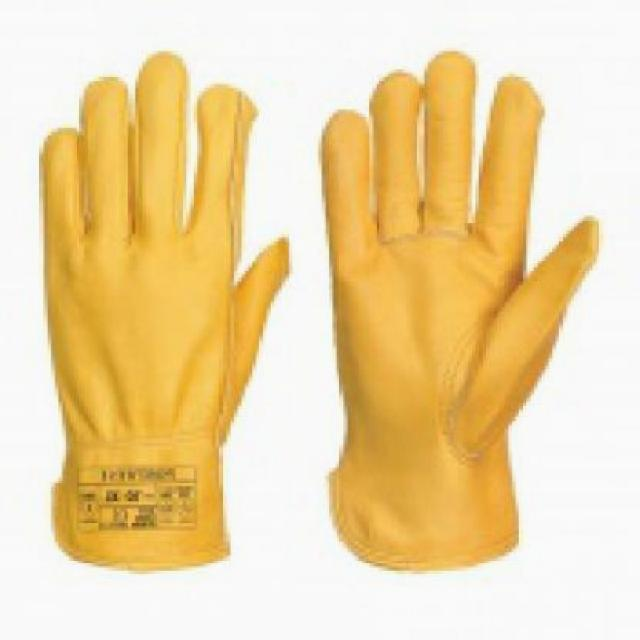glove: (295, 43, 610, 579), (39, 49, 284, 580)
